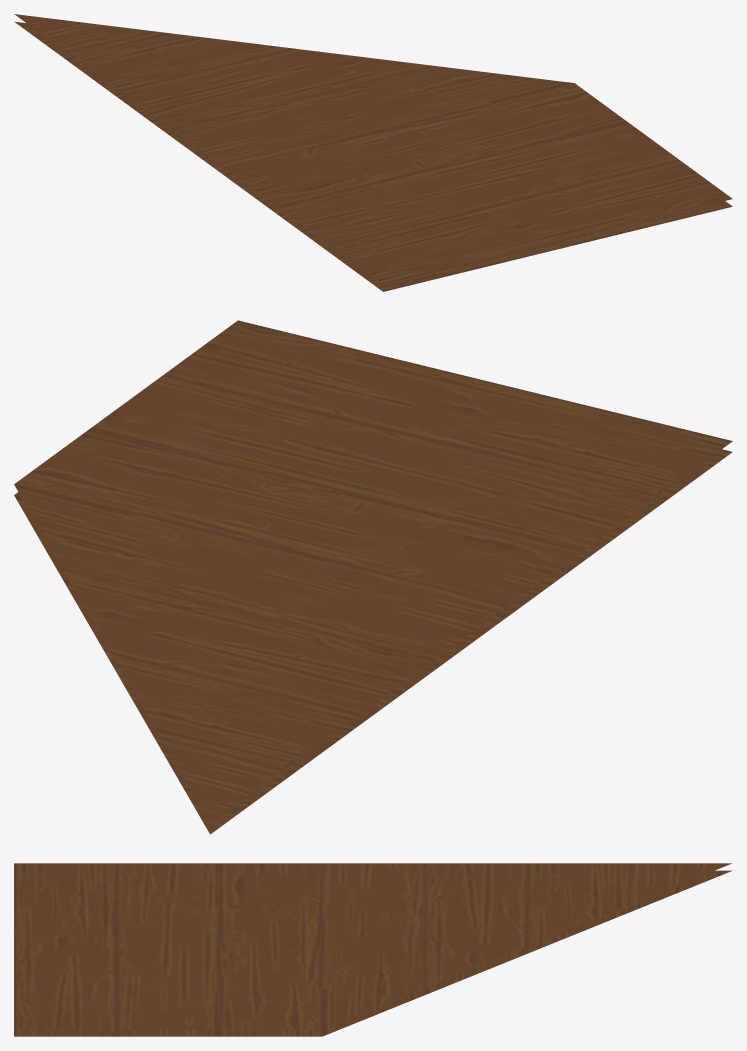
The model's file is floor_wooddark_overhangcorner2.glb.
3 views of the same model, one above another, from view 1: azimuth 30°, elevation 25°; view 2: azimuth 150°, elevation 25°; view 3: azimuth 270°, elevation 25° (orthographic). The views are drawn at different scales.
Bounding box in the file's own units: 0.9567 × 0.02 × 1.75.
1 material, 1 textured.
